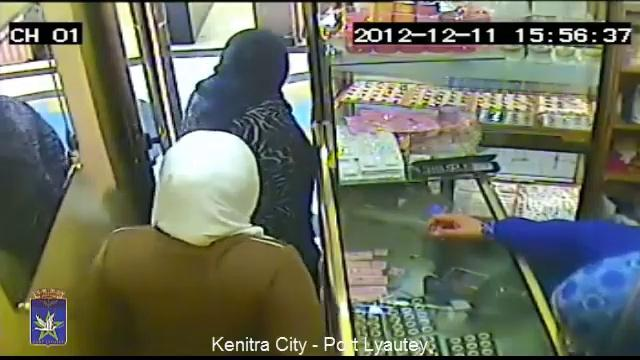Regular: (82, 118, 341, 360), (435, 148, 640, 360), (145, 6, 306, 217)
